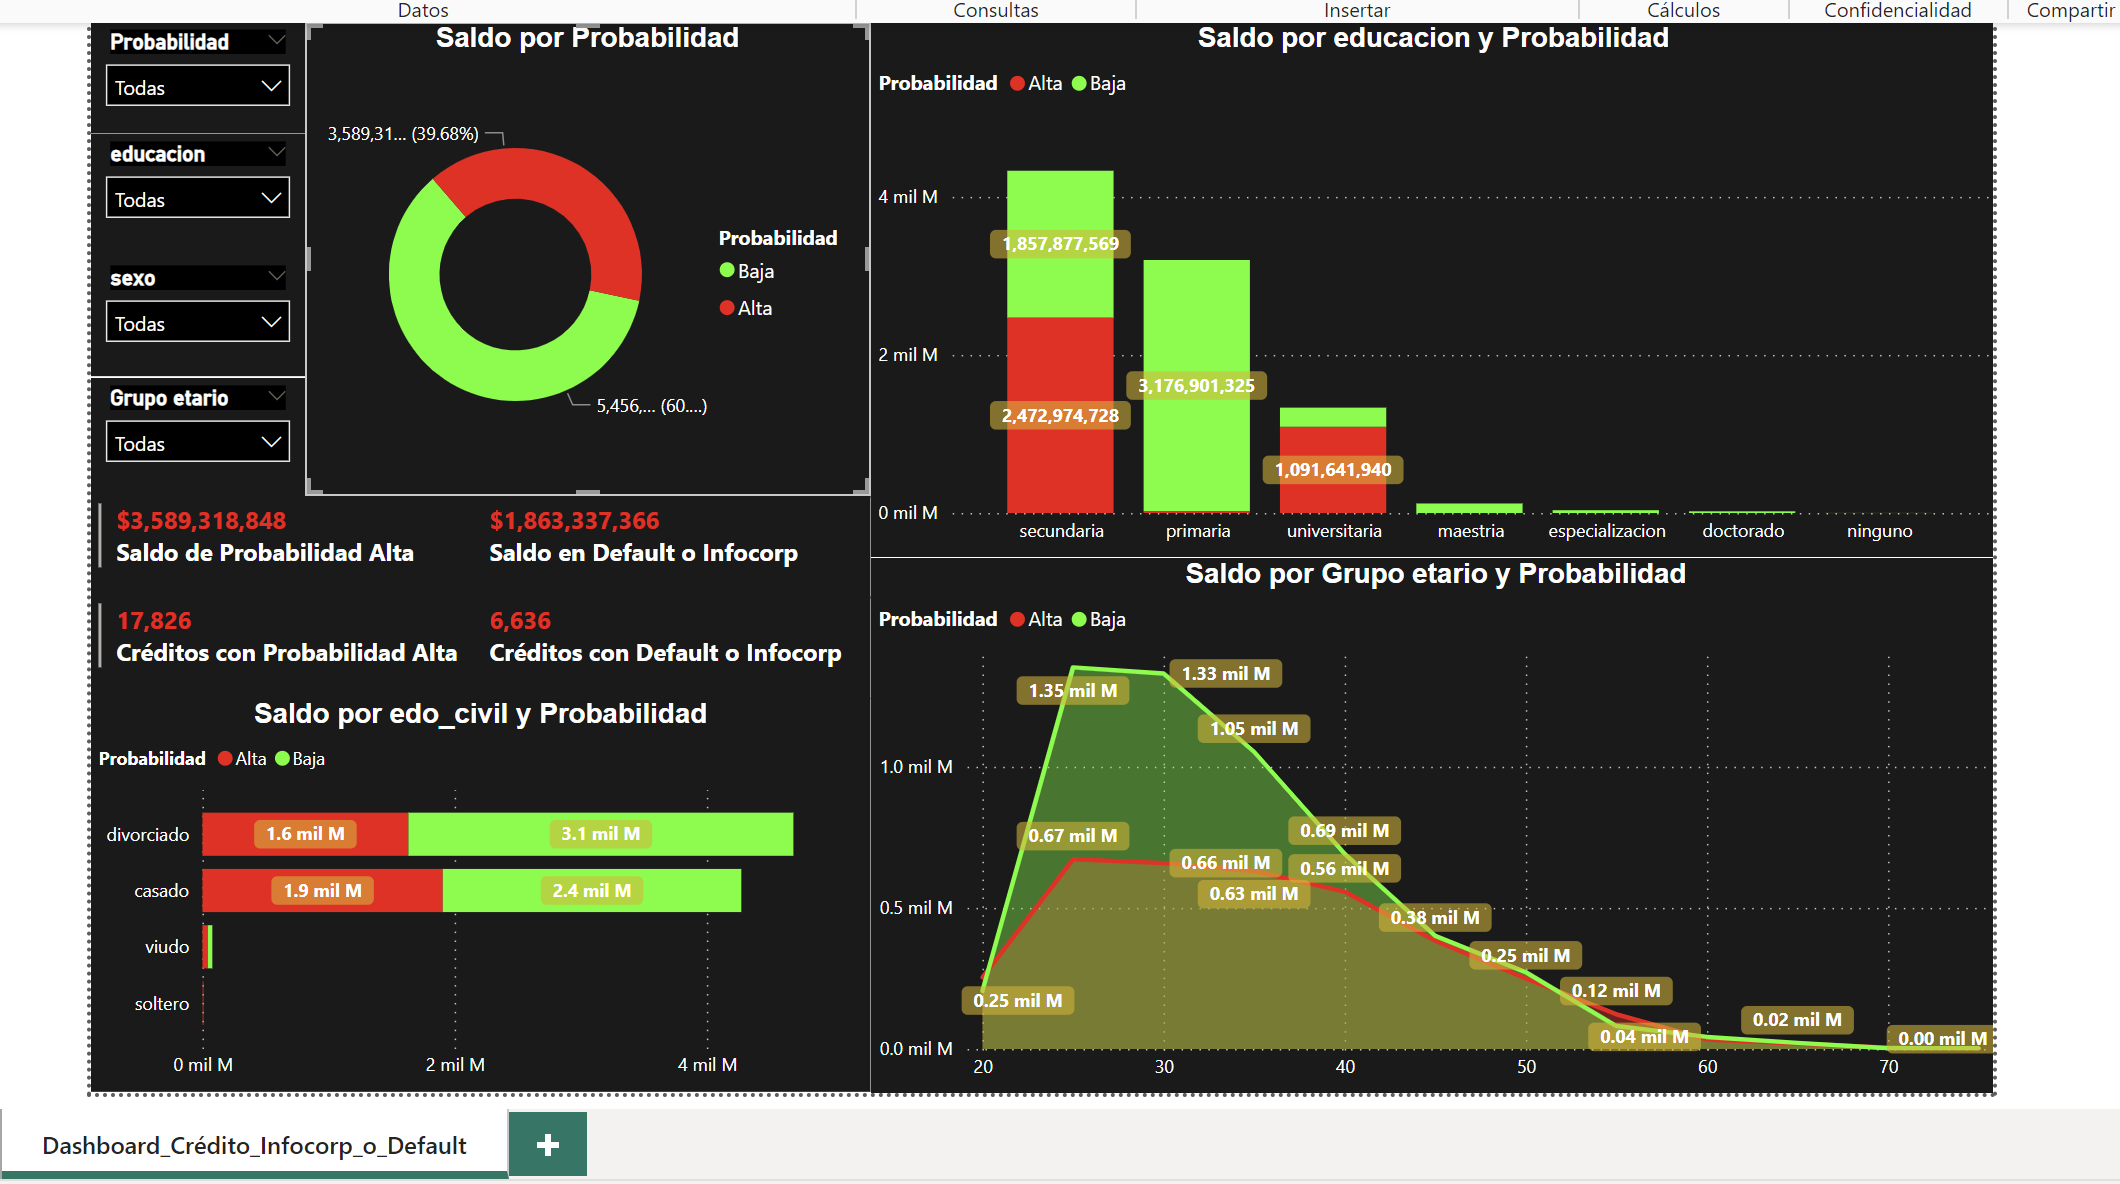

What the dashboard file says about the page in this screenshot:
{"tool":"powerbi","page":{"name":"Dashboard_Crédito_Infocorp_o_Default","canvas":[1280,720],"ordinal":0},"visuals":[{"type":"donutChart","fields":{"Y":["Sum(data_PD.saldo)"],"Category":["data_PD.Probabilidad"]},"box":[144.1,0,380.2,318.9],"z":0},{"type":"columnChart","fields":{"Category":["data_PD.educacion"],"Y":["Sum(data_PD.saldo)"],"Series":["data_PD.Probabilidad"]},"box":[524.3,0,757.3,360.2],"z":1},{"type":"multiRowCard","fields":{"Values":["data_PD.Créditos con Probabilidad Alta","data_PD.Créditos con Default o Infocorp"]},"box":[0,386.3,524.3,69],"z":2},{"type":"multiRowCard","fields":{"Values":["data_PD.Saldo de Probabilidad Alta","data_PD.Saldo en Default o Infocorp"]},"box":[0,318.9,524.3,69],"z":3},{"type":"areaChart","fields":{"Category":["data_PD.Grupo etario"],"Y":["Sum(data_PD.saldo)"],"Series":["data_PD.Probabilidad"]},"box":[524.3,360.2,760.3,360.2],"z":4},{"type":"barChart","fields":{"Category":["data_PD.edo_civil"],"Series":["data_PD.Probabilidad"],"Y":["Sum(data_PD.saldo)"]},"box":[0,455.3,524.3,265.2],"z":5},{"type":"slicer","fields":{"Values":["data_PD.Probabilidad"]},"box":[0,0,144.1,75.1],"z":6},{"type":"slicer","fields":{"Values":["data_PD.educacion"]},"box":[0,75.1,144.1,84.3],"z":7},{"type":"slicer","fields":{"Values":["data_PD.sexo"]},"box":[0,159.4,144.1,79.7],"z":8},{"type":"slicer","fields":{"Values":["data_PD.Grupo etario"]},"box":[0,239.1,144.1,79.7],"z":9}]}

Visuals, with their boxes on the page's 1280x720 design canvas (x1, y1, x2, y2). These are canvas units, not pixel positions in the 2120x1184 screenshot, which may show the page scaled, cropped or inside an application window:
donutChart - Sum(data_PD.saldo) x data_PD.Probabilidad: crop(144, 0, 524, 319)
columnChart - data_PD.educacion x Sum(data_PD.saldo): crop(524, 0, 1282, 360)
multiRowCard - data_PD.Créditos con Probabilidad Alta x data_PD.Créditos con Default o Infocorp: crop(0, 386, 524, 455)
multiRowCard - data_PD.Saldo de Probabilidad Alta x data_PD.Saldo en Default o Infocorp: crop(0, 319, 524, 388)
areaChart - data_PD.Grupo etario x Sum(data_PD.saldo): crop(524, 360, 1285, 720)
barChart - data_PD.edo_civil x data_PD.Probabilidad: crop(0, 455, 524, 720)
slicer - data_PD.Probabilidad: crop(0, 0, 144, 75)
slicer - data_PD.educacion: crop(0, 75, 144, 159)
slicer - data_PD.sexo: crop(0, 159, 144, 239)
slicer - data_PD.Grupo etario: crop(0, 239, 144, 319)
